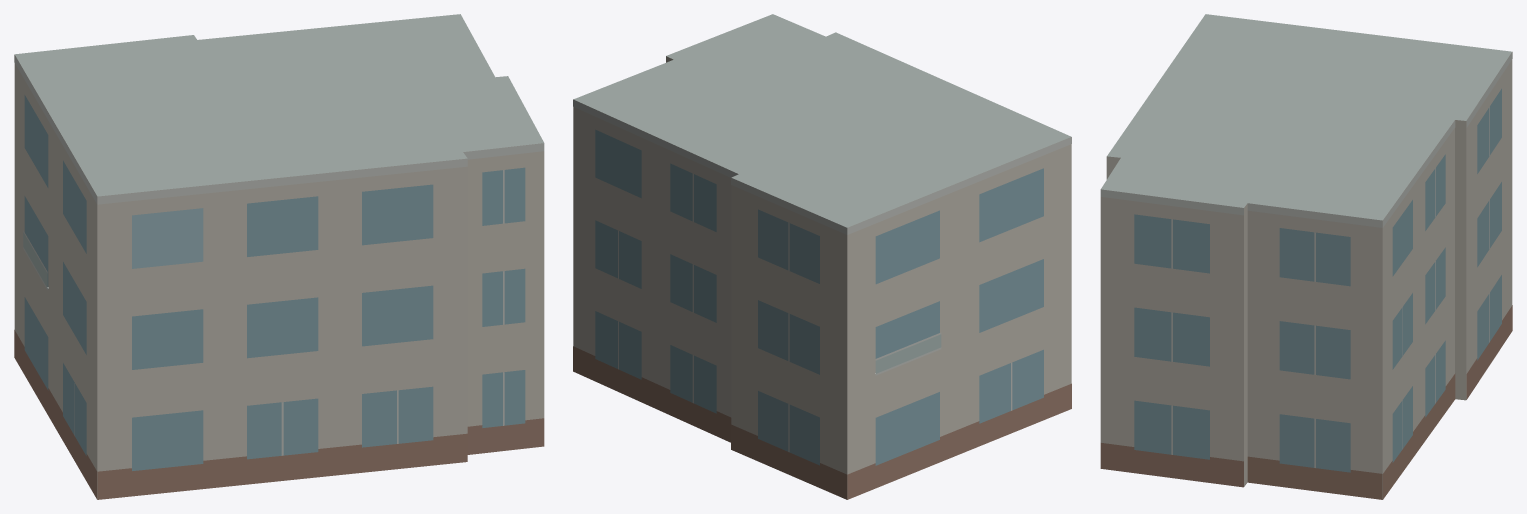
The model's file is survey-upis-32508809.glb.
3 views of the same model, side by side, from view 1: azimuth 30°, elevation 25°; view 2: azimuth 150°, elevation 25°; view 3: azimuth 270°, elevation 25° (orthographic). The views are drawn at different scales.
Visible parts, largest first — view 1: survey-upis-32508809.tmp; view 2: survey-upis-32508809.tmp; view 3: survey-upis-32508809.tmp.
Boxes of the visible parts, x1,y1,x2,y2 form: survey-upis-32508809.tmp: (14, 14, 544, 499); survey-upis-32508809.tmp: (573, 14, 1071, 499); survey-upis-32508809.tmp: (1100, 14, 1512, 499).
Size of the model in its own units: 14.52 by 9.15 by 12.23.
